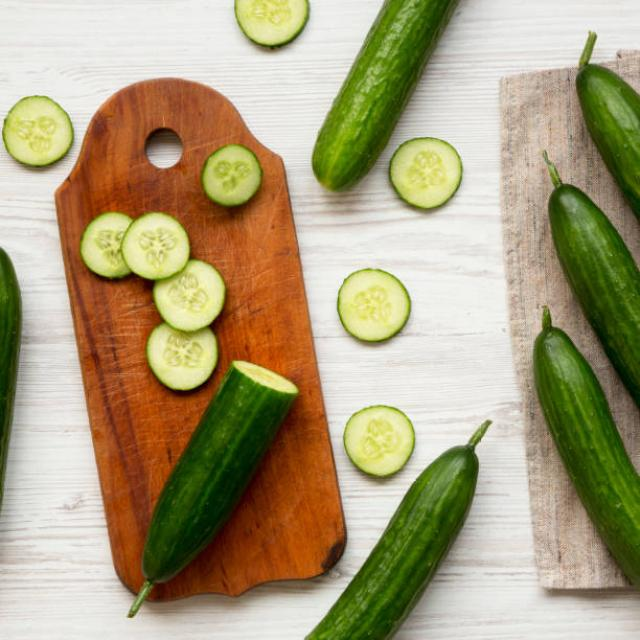cucumber: (143, 358, 299, 578), (304, 444, 478, 640), (309, 0, 456, 194), (536, 326, 640, 582), (548, 183, 640, 403), (576, 59, 640, 216)
